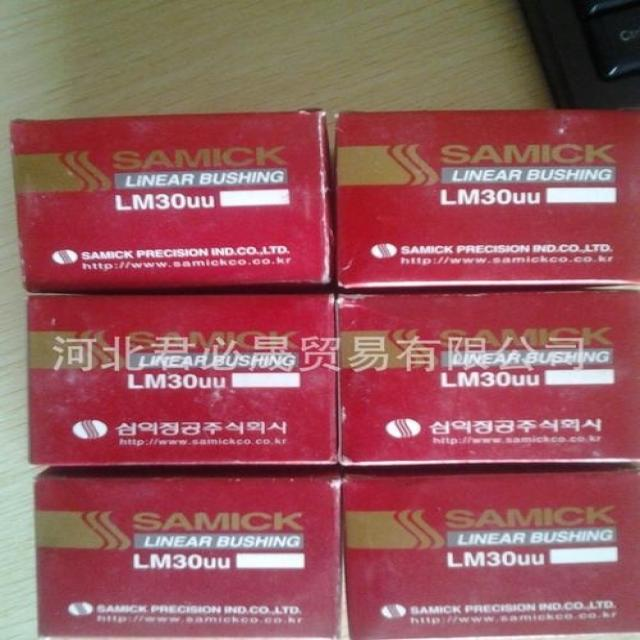box: (8, 110, 336, 291), (27, 290, 337, 469), (337, 287, 639, 468), (30, 467, 343, 639), (335, 112, 639, 288), (341, 466, 639, 639)
